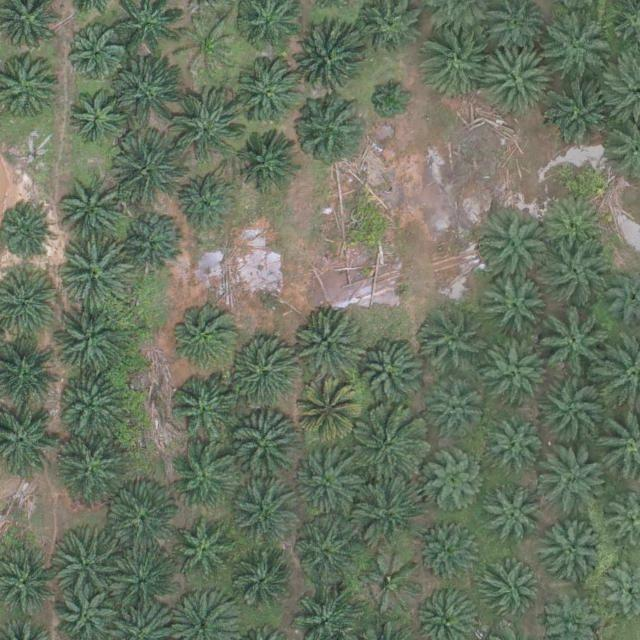Kelapa_Sawit: (536, 448, 606, 519), (170, 442, 240, 513), (58, 367, 128, 438), (235, 56, 305, 127), (169, 300, 239, 371), (113, 135, 183, 206), (52, 308, 122, 379), (537, 375, 607, 445), (350, 478, 420, 548), (353, 408, 423, 478), (230, 412, 300, 482), (169, 376, 239, 446), (108, 489, 178, 559), (53, 431, 123, 501), (53, 524, 123, 594), (537, 4, 607, 74), (545, 77, 615, 147), (479, 44, 549, 114), (415, 27, 485, 97), (539, 310, 609, 380), (542, 237, 612, 307), (479, 212, 549, 282), (481, 330, 551, 400), (415, 307, 485, 377), (352, 338, 422, 408), (291, 311, 361, 381), (223, 339, 293, 409), (292, 25, 362, 95), (293, 97, 363, 167), (171, 90, 241, 160), (114, 55, 184, 125), (59, 168, 129, 238), (61, 239, 131, 309), (540, 521, 602, 584), (481, 484, 543, 547), (476, 559, 538, 622), (417, 519, 479, 582), (291, 449, 353, 512), (292, 519, 354, 582), (234, 485, 296, 548), (172, 519, 234, 582), (542, 193, 604, 256), (484, 277, 546, 340), (177, 11, 239, 74), (119, 210, 181, 273), (63, 23, 125, 86), (65, 83, 127, 146), (419, 453, 481, 515), (360, 550, 422, 612), (295, 383, 357, 445), (229, 556, 291, 618), (110, 549, 172, 611), (235, 130, 297, 192), (175, 176, 237, 238), (488, 419, 542, 474), (427, 384, 481, 439), (367, 74, 413, 120)
